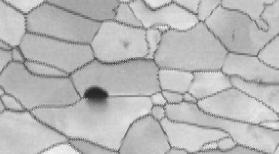good_void: (82, 84, 110, 108), (120, 38, 135, 53), (249, 77, 266, 89), (228, 28, 239, 46)
